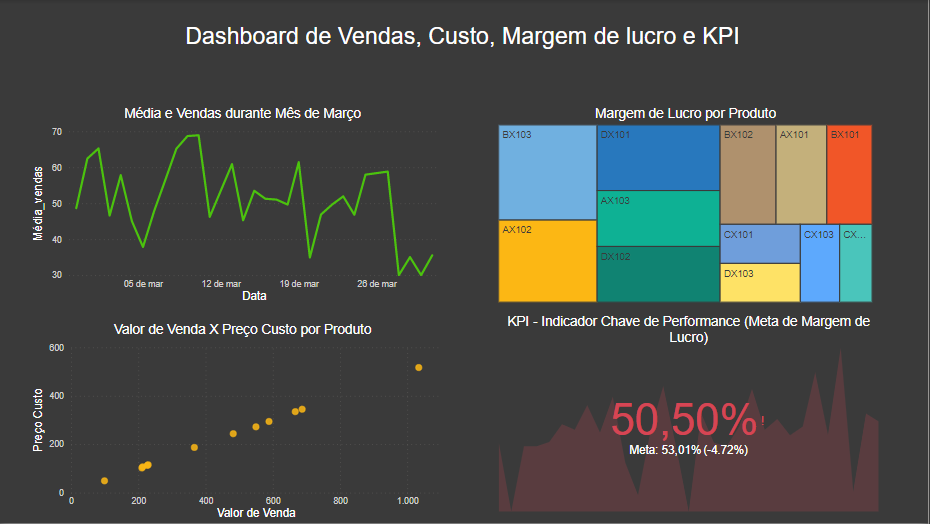

What the dashboard file says about the page in this screenshot:
{"tool":"powerbi","page":{"name":"Página 2","canvas":[1280,720],"ordinal":1},"visuals":[{"type":"lineChart","title":"Média e Vendas durante  Mês de Março","fields":{"Category":["Custos.Data"],"Y":["Custos.Média_vendas"]},"box":[42.7,145.9,587.7,275.3],"z":0},{"type":"treemap","title":"Margem de Lucro por Produto","fields":{"Group":["Custos.Produto"],"Values":["Sum(Custos.Margem_Lucro)"]},"box":[684,145.9,524.4,275.3],"z":1000},{"type":"scatterChart","title":"Valor de Venda X Preço Custo por Produto","fields":{"Category":["Custos.Produto"],"X":["Sum(Custos.Valor de Venda)"],"Y":["Sum(Custos.Preço Custo)"]},"box":[42.7,443.2,587.7,276.6],"z":2000},{"type":"kpi","title":"KPI - Indicador Chave de Performance (Meta de Margem de Lucro) ","fields":{"Goal":["Max(Custos.Margem_Lucro)"],"Indicator":["Avg(Custos.Margem_Lucro)1"],"TrendLine":["Custos.Data"]},"box":[684,432.2,532.6,276.6],"z":3000},{"type":"textbox","box":[95,26.2,1088.7,84],"z":4000}]}

Visuals, with their boxes in screenshot pixels (x1, y1, x2, y2), scaled from the page's 1280x720 canvas onto the 930x524 screenshot:
"Média e Vendas durante  Mês de Março" lineChart: 31, 106, 458, 307
"Margem de Lucro por Produto" treemap: 497, 106, 878, 307
"Valor de Venda X Preço Custo por Produto" scatterChart: 31, 323, 458, 523
"KPI - Indicador Chave de Performance (Meta de Margem de Lucro) " kpi: 497, 315, 884, 516
textbox: 69, 19, 860, 80
